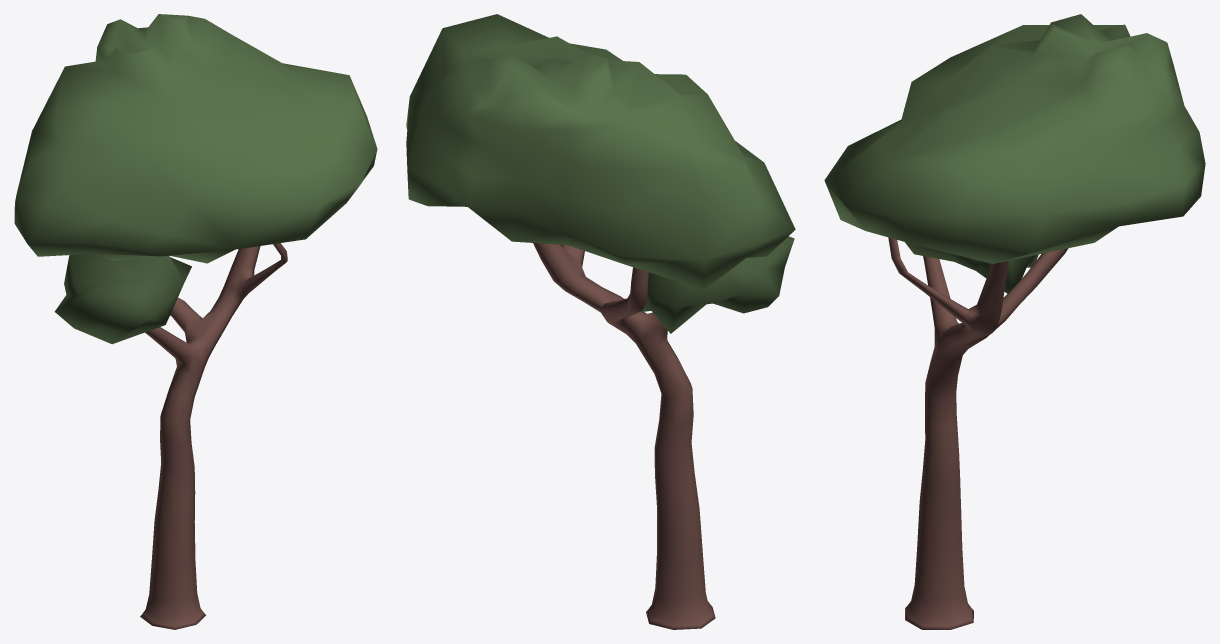
Rendered from CommonTree_4.glb.
3 renders of one model, left to right at view 1: azimuth 30°, elevation 25°; view 2: azimuth 150°, elevation 25°; view 3: azimuth 270°, elevation 25°, orthographic. The views are drawn at different scales.
Parts seen in each view (by area): view 1: CommonTree_4; view 2: CommonTree_4; view 3: CommonTree_4.
Part boxes in pixels (x1=…): CommonTree_4: x1=14, y1=14, x2=377, y2=629; CommonTree_4: x1=406, y1=14, x2=795, y2=629; CommonTree_4: x1=824, y1=14, x2=1205, y2=629.
Bounding box in the file's own units: 1.8 × 2.78 × 1.58.
